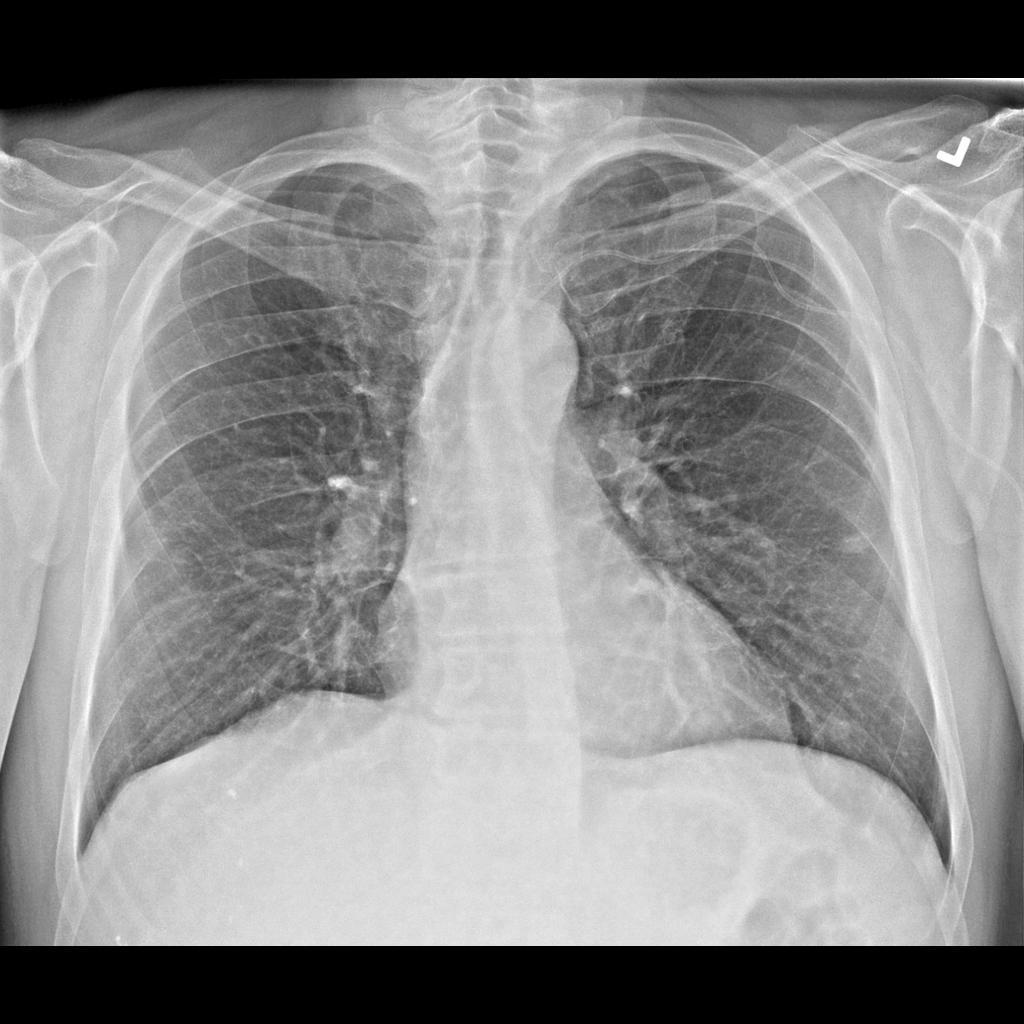Nodule: (832, 522, 876, 563), (822, 705, 860, 752)
